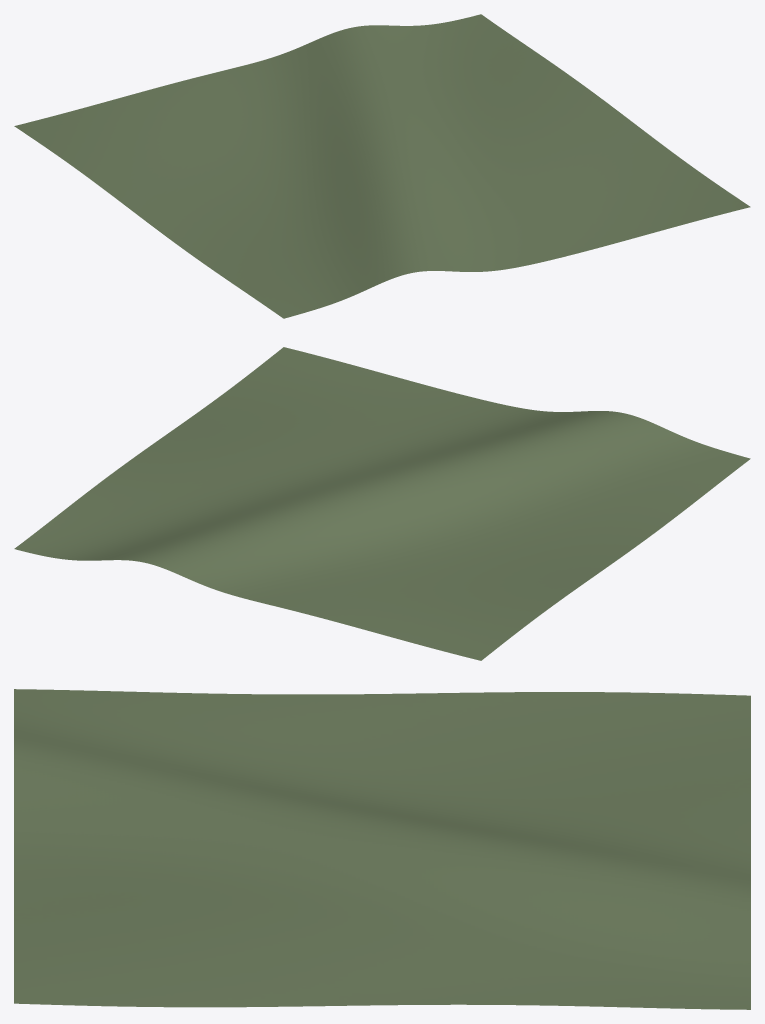
File: pine_stone_pass.obj
3 renders of one model, top to bottom at view 1: azimuth 30°, elevation 25°; view 2: azimuth 150°, elevation 25°; view 3: azimuth 270°, elevation 25°, orthographic. The views are drawn at different scales.
Bounding box in the file's own units: 179 × 8.08 × 179.
